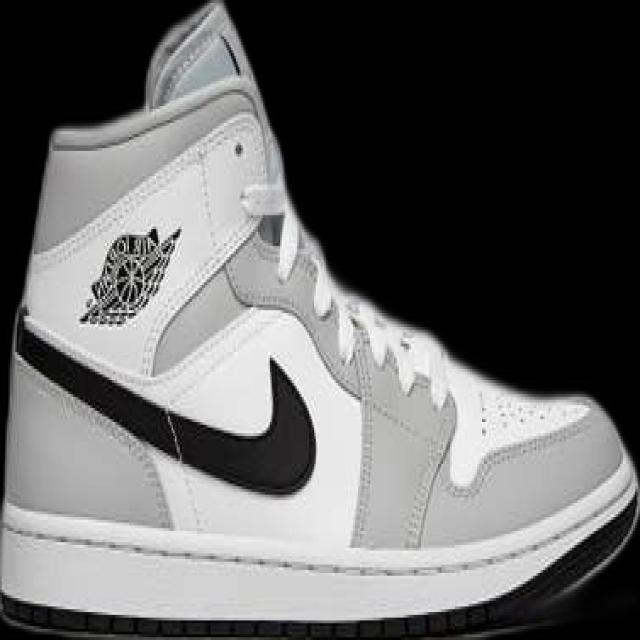J1_InsoleChar: (2, 2, 636, 636)
J1_ShoeLogo: (77, 224, 182, 327)
J1_StitchPattern: (225, 218, 459, 548), (2, 493, 637, 586), (13, 317, 189, 476), (340, 312, 457, 550), (401, 401, 458, 549), (346, 315, 378, 549), (472, 385, 589, 443), (158, 404, 206, 533)
